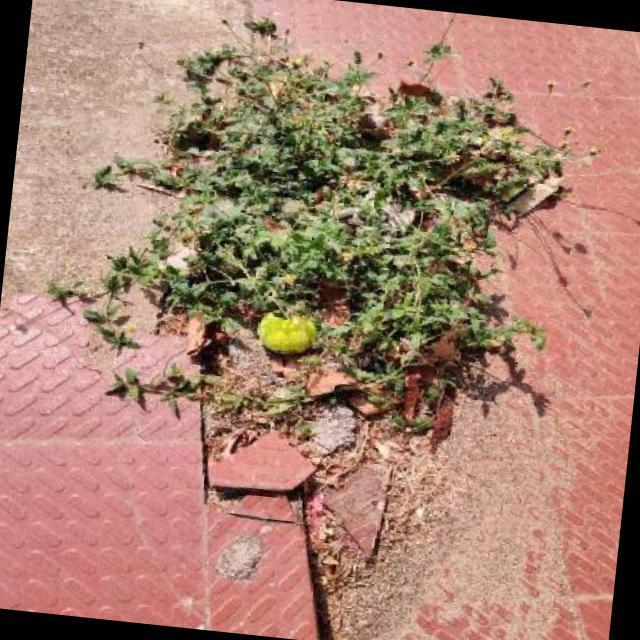-: (242, 294, 333, 367)
